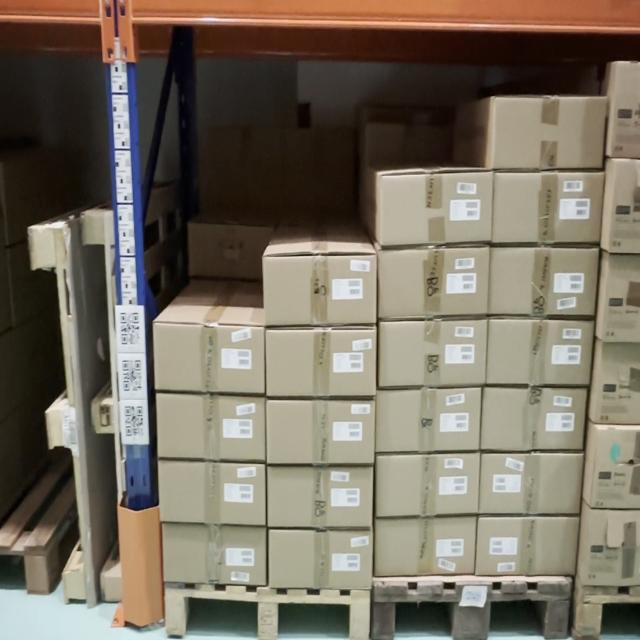box: (493, 174, 603, 242), (380, 248, 488, 316), (495, 99, 601, 168), (264, 258, 376, 322), (266, 329, 375, 394), (382, 178, 490, 240), (158, 395, 264, 458), (380, 323, 484, 385), (377, 389, 480, 451), (486, 322, 590, 383), (155, 328, 262, 387), (266, 402, 373, 460), (492, 251, 594, 311), (161, 463, 265, 521), (484, 388, 583, 448), (269, 530, 371, 588), (479, 454, 582, 511), (162, 527, 266, 583), (268, 470, 372, 525), (376, 519, 475, 576), (377, 458, 476, 514), (479, 520, 574, 573), (584, 508, 640, 582), (592, 429, 640, 505), (594, 345, 640, 423), (603, 258, 640, 341), (609, 161, 640, 253), (611, 61, 640, 158)
